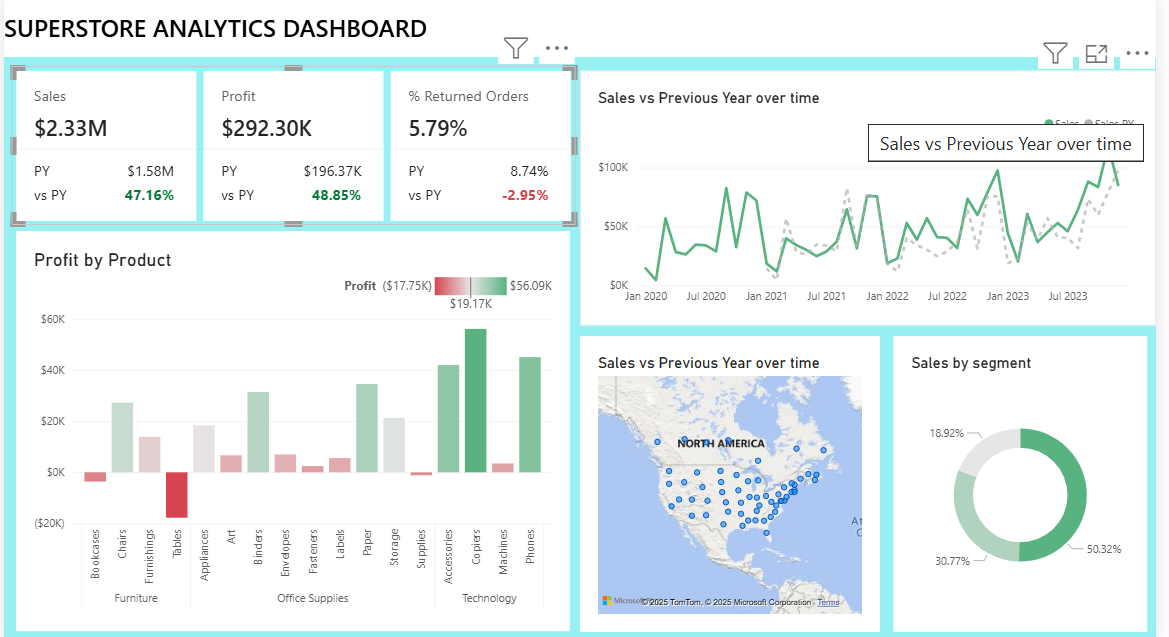

The dashboard page shown, as its layout file describes it:
{"tool":"powerbi","page":{"name":"Page 1","canvas":[1280,720],"ordinal":0},"visuals":[{"type":"cardVisual","fields":{"Data":["key measure.Sales","key measure.Profit","key measure.% Returned Orders"]},"box":[8.2,76.4,626.8,177.3],"z":0},{"type":"shape","box":[0,0,1280.4,66.8],"z":1000},{"type":"lineChart","title":"Sales vs Previous Year over time","fields":{"Y":["key measure.Sales","key measure.Sales PY"],"Category":["Date Table.Start of month"]},"box":[640,81.5,640,283.5],"z":2000},{"type":"columnChart","title":"Profit by Product","fields":{"Category":["Orders.Category","Orders.Sub-Category"],"Y":["key measure.Profit"]},"box":[13.1,260.8,615.4,444.6],"z":3000},{"type":"map","title":"Sales vs Previous Year over time","fields":{"Category":["Orders.State/Province"]},"box":[640,376.7,333.3,328.3],"z":3001},{"type":"donutChart","title":"Sales by segment","fields":{"Y":["key measure.Sales"],"Category":["Orders.Segment"]},"box":[988.3,376.7,281.7,328.3],"z":3002}]}

Visuals, with their boxes in screenshot pixels (x1, y1, x2, y2):
cardVisual - key measure.Sales x key measure.Profit: {"x1": 4, "y1": 29, "x2": 571, "y2": 190}
shape: {"x1": 0, "y1": 0, "x2": 1154, "y2": 21}
"Sales vs Previous Year over time" lineChart: {"x1": 575, "y1": 34, "x2": 1153, "y2": 290}
"Profit by Product" columnChart: {"x1": 9, "y1": 196, "x2": 565, "y2": 598}
"Sales vs Previous Year over time" map: {"x1": 575, "y1": 301, "x2": 876, "y2": 597}
"Sales by segment" donutChart: {"x1": 890, "y1": 301, "x2": 1144, "y2": 597}
